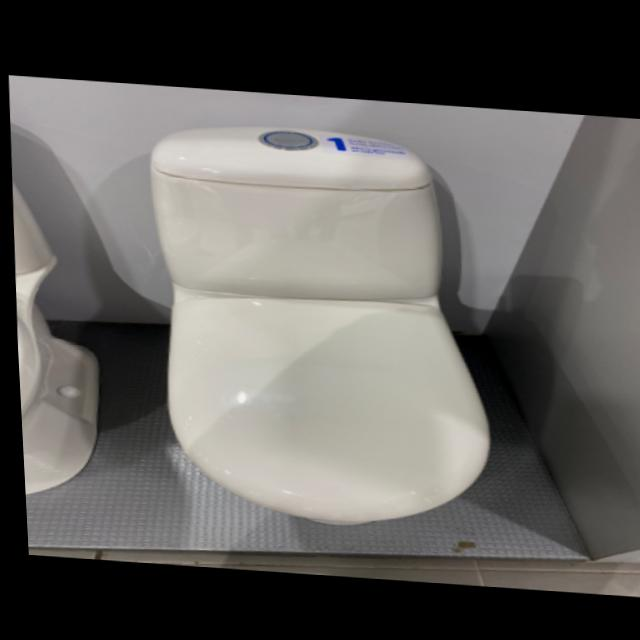toilet: (137, 114, 495, 530), (7, 180, 103, 498)
